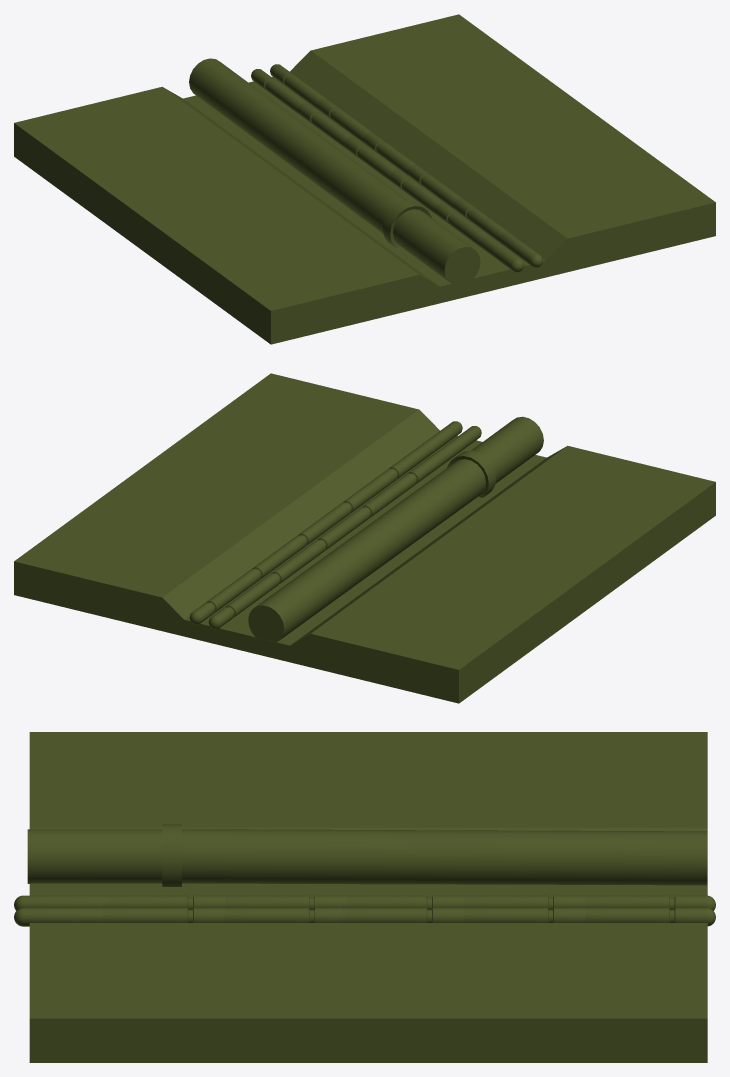
Rendered from Plafond_Corridor.fbx.
3 views of the same model, one above another, from view 1: azimuth 30°, elevation 25°; view 2: azimuth 150°, elevation 25°; view 3: azimuth 270°, elevation 25° (orthographic). The views are drawn at different scales.
Visible parts, largest first — view 1: plafond_corridor; view 2: plafond_corridor; view 3: plafond_corridor.
Part boxes in pixels (x1=…): plafond_corridor: x1=14, y1=14, x2=715, y2=344; plafond_corridor: x1=14, y1=373, x2=715, y2=703; plafond_corridor: x1=14, y1=732, x2=715, y2=1062.
Bounding box in the file's own units: 322 × 37.6 × 333.
